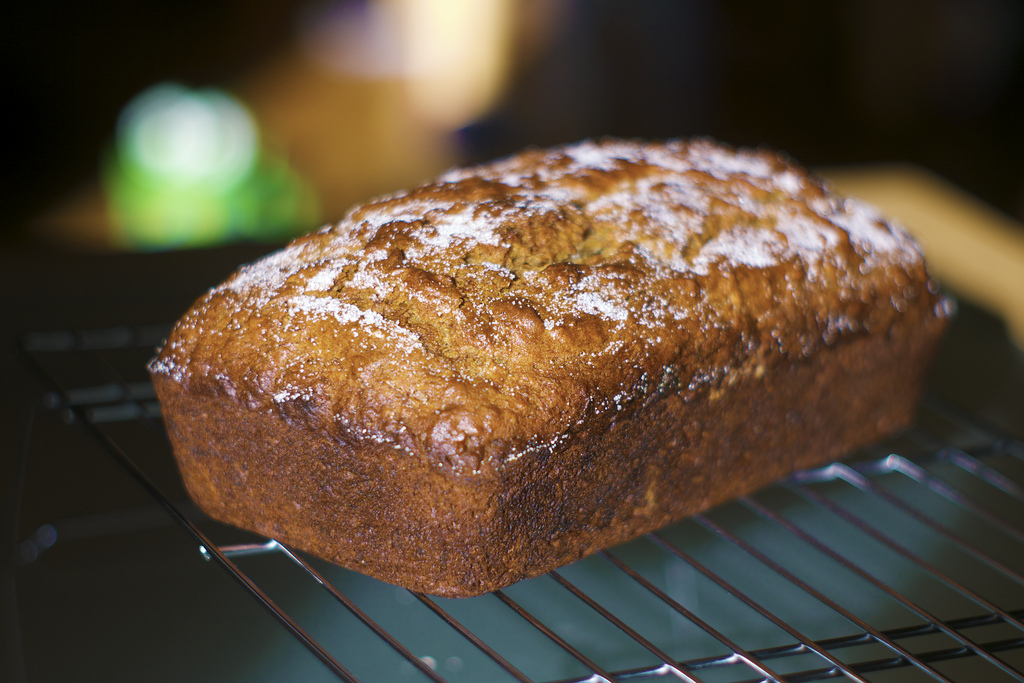slice of bread: (159, 133, 888, 546)
